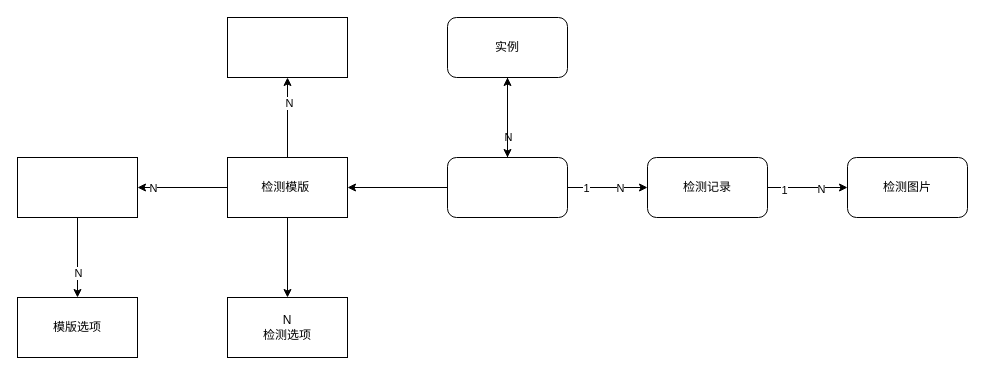
Some shapes in this 985 by 375 pixel diagram are drawn without their labels. Here are the shapes that lost their labels. From the top down, the centre of each, then its label:
At (287,47): "属性 N".
At (77,187): "裁剪检测模版".
At (507,187): "检测".
